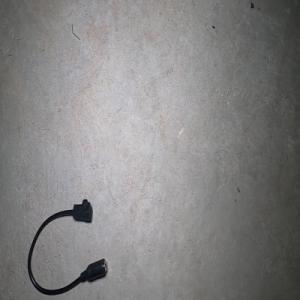Wire: (28, 198, 108, 296)
